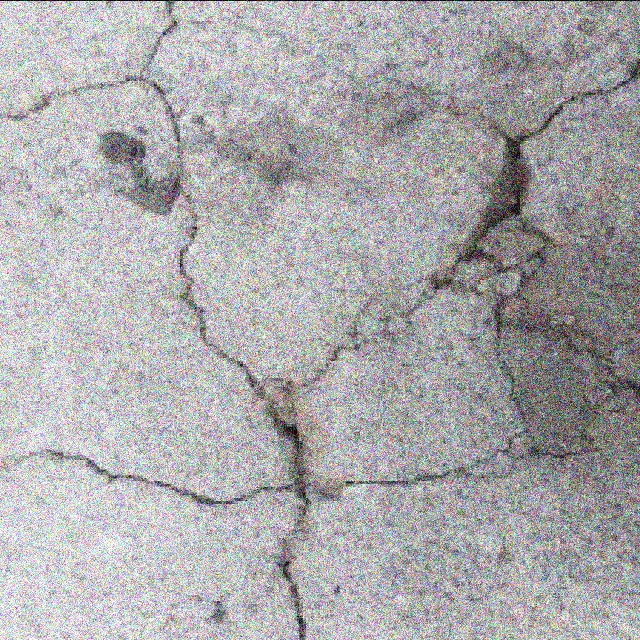SurfaceCrack: (122, 0, 348, 640), (398, 38, 640, 446), (0, 50, 188, 136)
